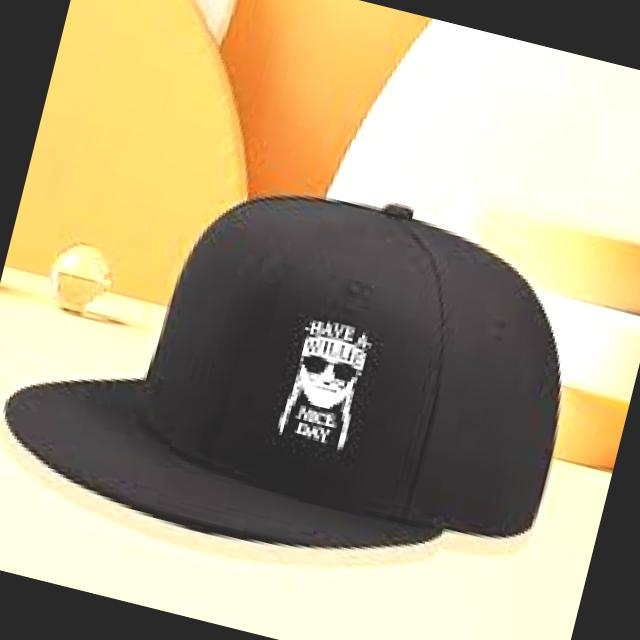hat: (5, 198, 559, 547)
